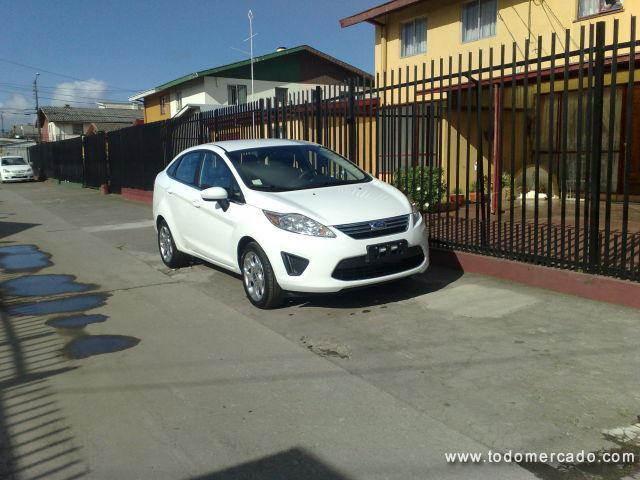Car: (134, 124, 444, 319)
